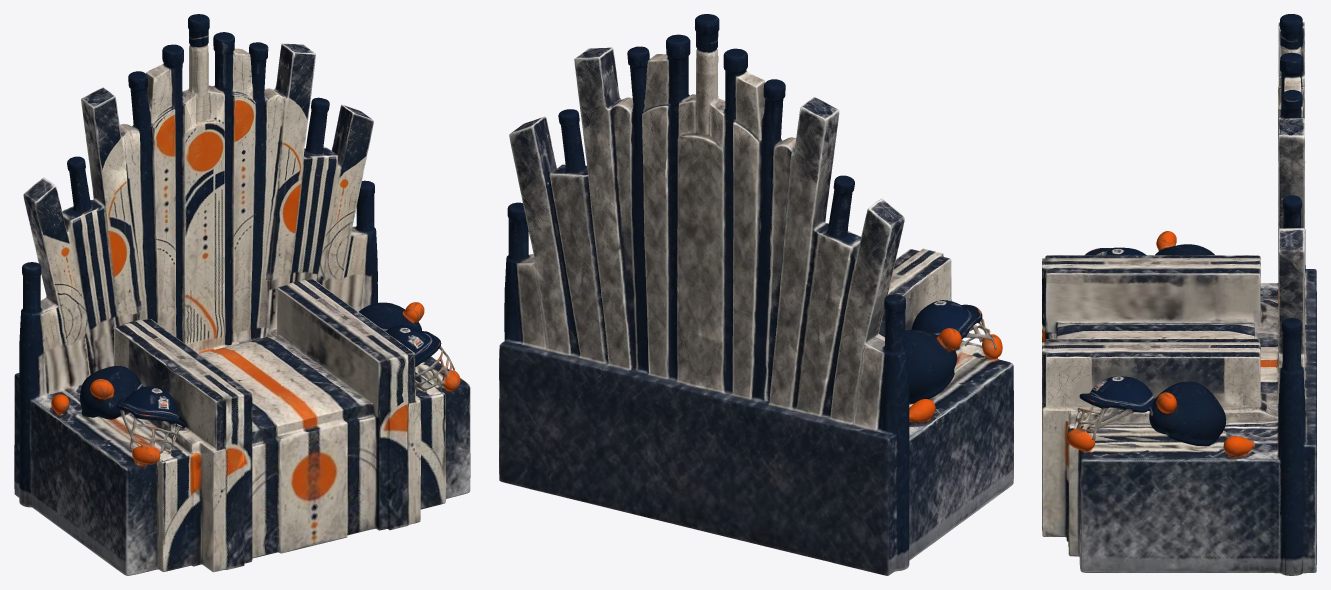
The model's file is Throne.glb.
The picture shows the model from 3 angles, left to right: view 1: azimuth 30°, elevation 25°; view 2: azimuth 150°, elevation 25°; view 3: azimuth 270°, elevation 25°; orthographic projection. The views are drawn at different scales.
Parts seen in each view (by area): view 1: Mesh_0; view 2: Mesh_0; view 3: Mesh_0.
Part boxes in pixels (left/top/right/bottom): Mesh_0: left=14, top=14, right=470, bottom=575; Mesh_0: left=499, top=14, right=1013, bottom=575; Mesh_0: left=1042, top=14, right=1316, bottom=575.
Size of the model in its own units: 1.59 by 1.9 by 1.01.
1 material, 1 textured.
